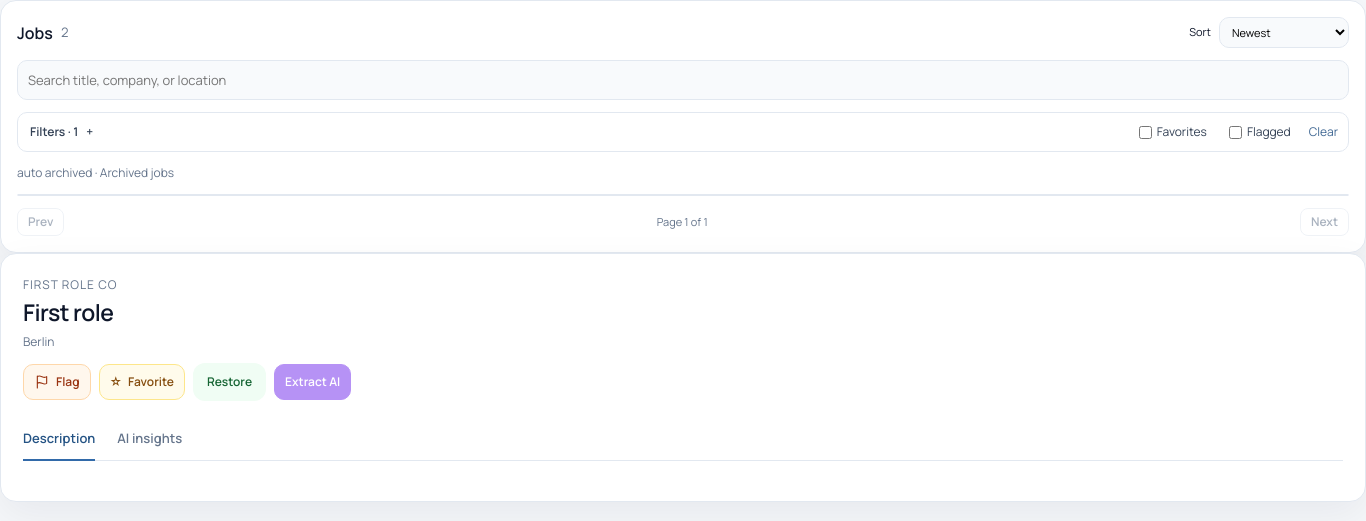
JobTable and JobDetail › opens the automatic archive audit directly and advances after restoring a job
Expected: the heading "First role" is shown, x1=23 y1=296 x2=114 y2=328
Click the button "Restore".
click(230, 382)  # box x1=193 y1=363 x2=266 y2=401
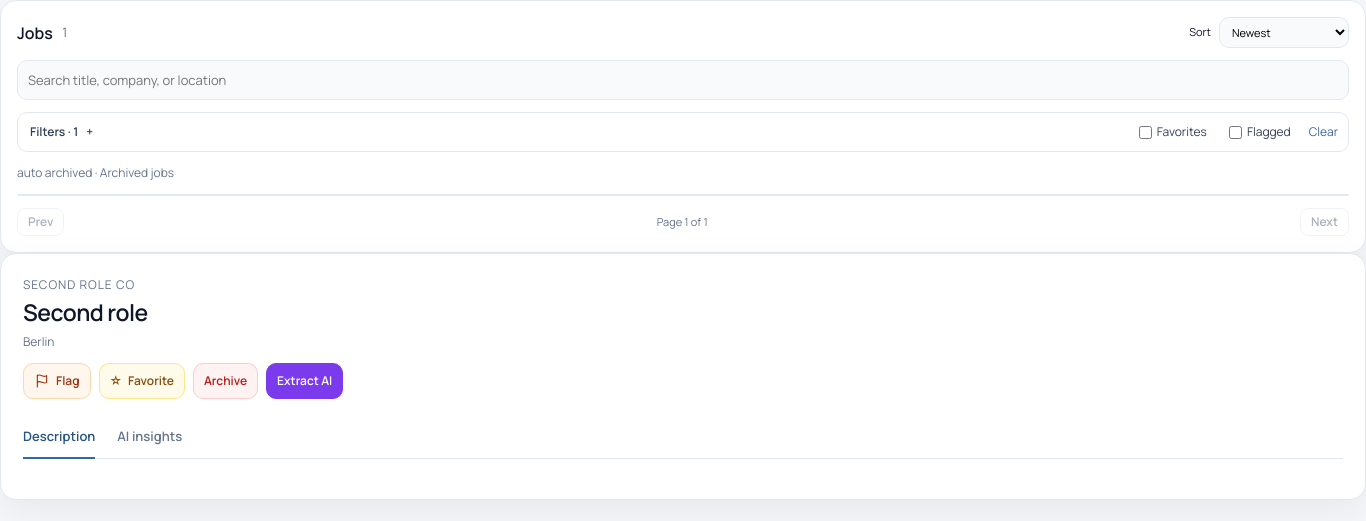
Result: the heading "Second role" is shown at x1=23 y1=296 x2=148 y2=328
Result: the text "First role" is gone
